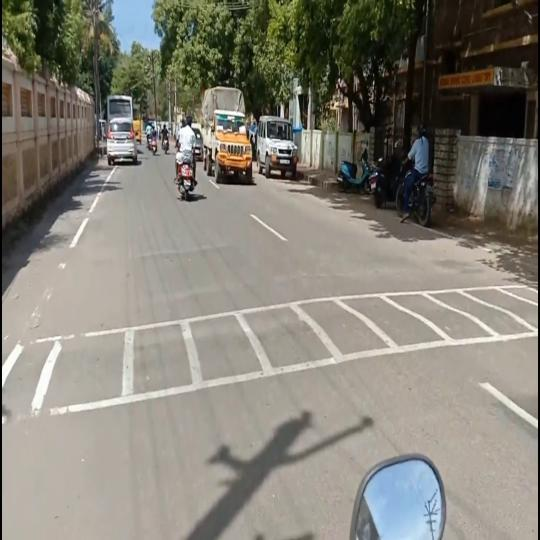Speed Bump: (1, 283, 538, 421)
